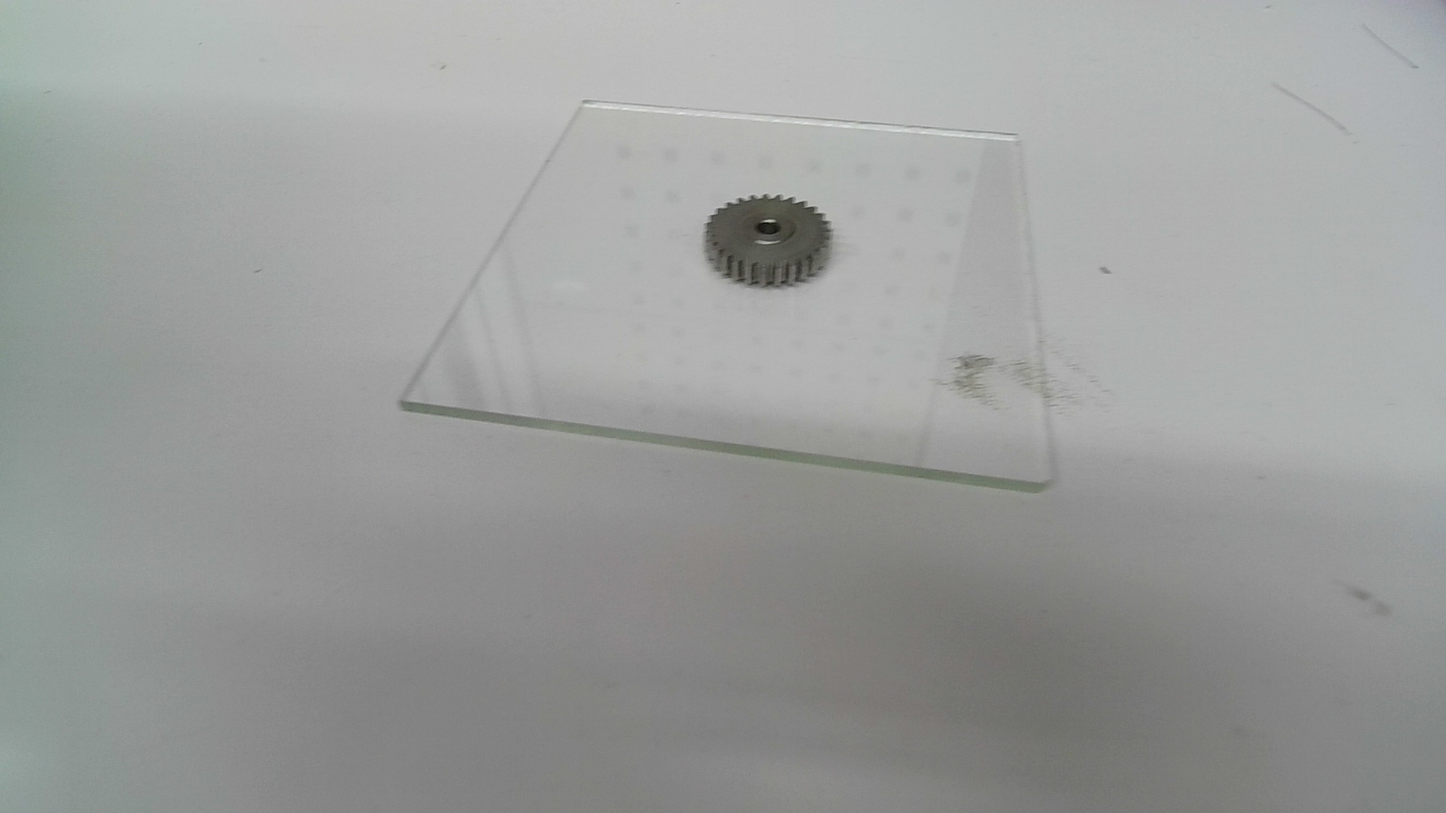gear: (701, 192, 835, 292)
